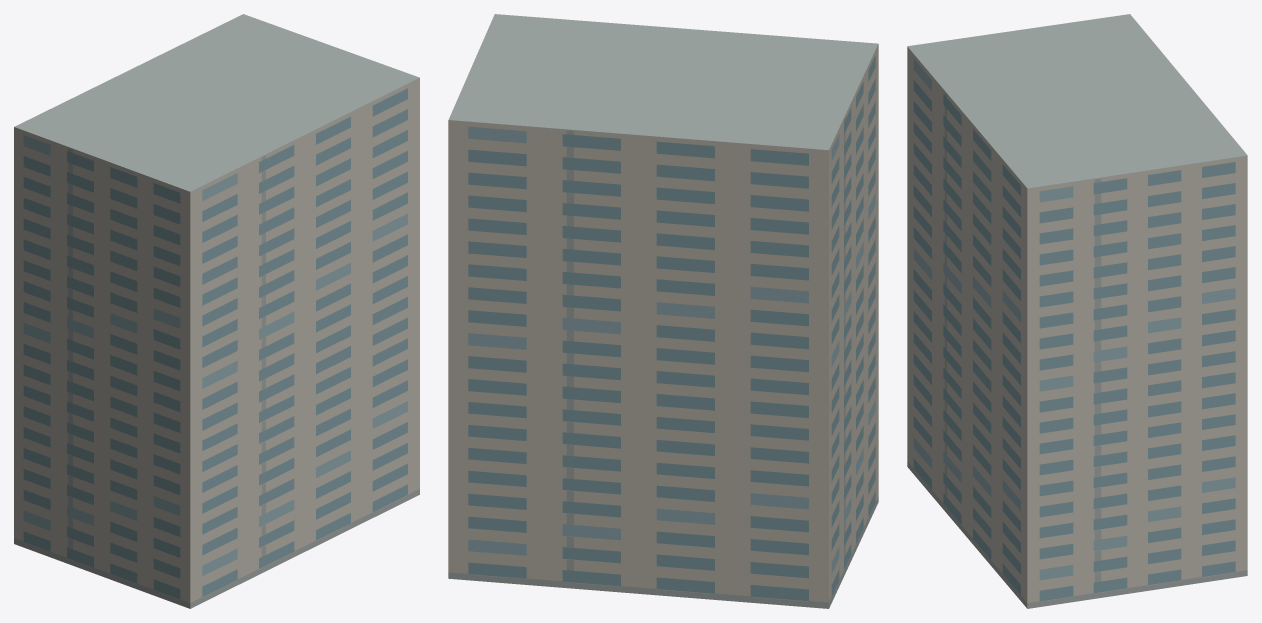
File: survey-upis-32762891.glb
The picture shows the model from 3 angles, left to right: view 1: azimuth 30°, elevation 25°; view 2: azimuth 150°, elevation 25°; view 3: azimuth 270°, elevation 25°; orthographic projection. The views are drawn at different scales.
Visible parts, largest first — view 1: survey-upis-32762891.tmp; view 2: survey-upis-32762891.tmp; view 3: survey-upis-32762891.tmp.
Boxes of the visible parts, x1,y1,x2,y2 form: survey-upis-32762891.tmp: (14, 14, 419, 608); survey-upis-32762891.tmp: (448, 14, 878, 608); survey-upis-32762891.tmp: (907, 14, 1247, 608).
Bounding box in the file's own units: 72.74 × 81.7 × 59.98.
